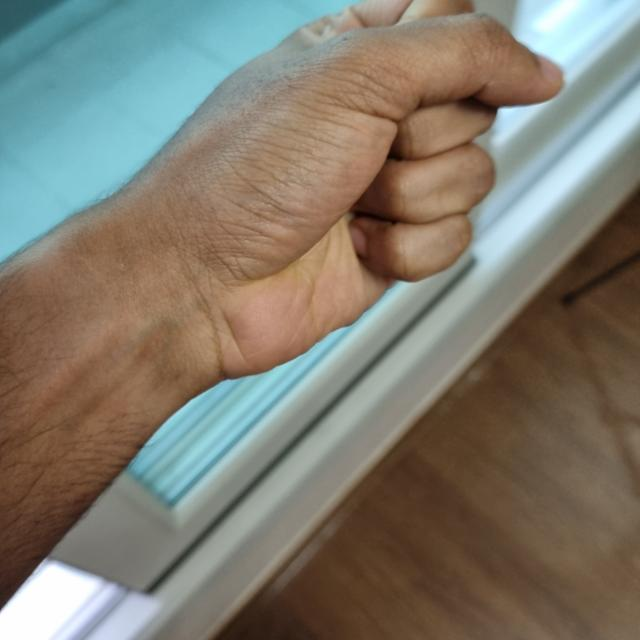Rock: (107, 10, 565, 377)
